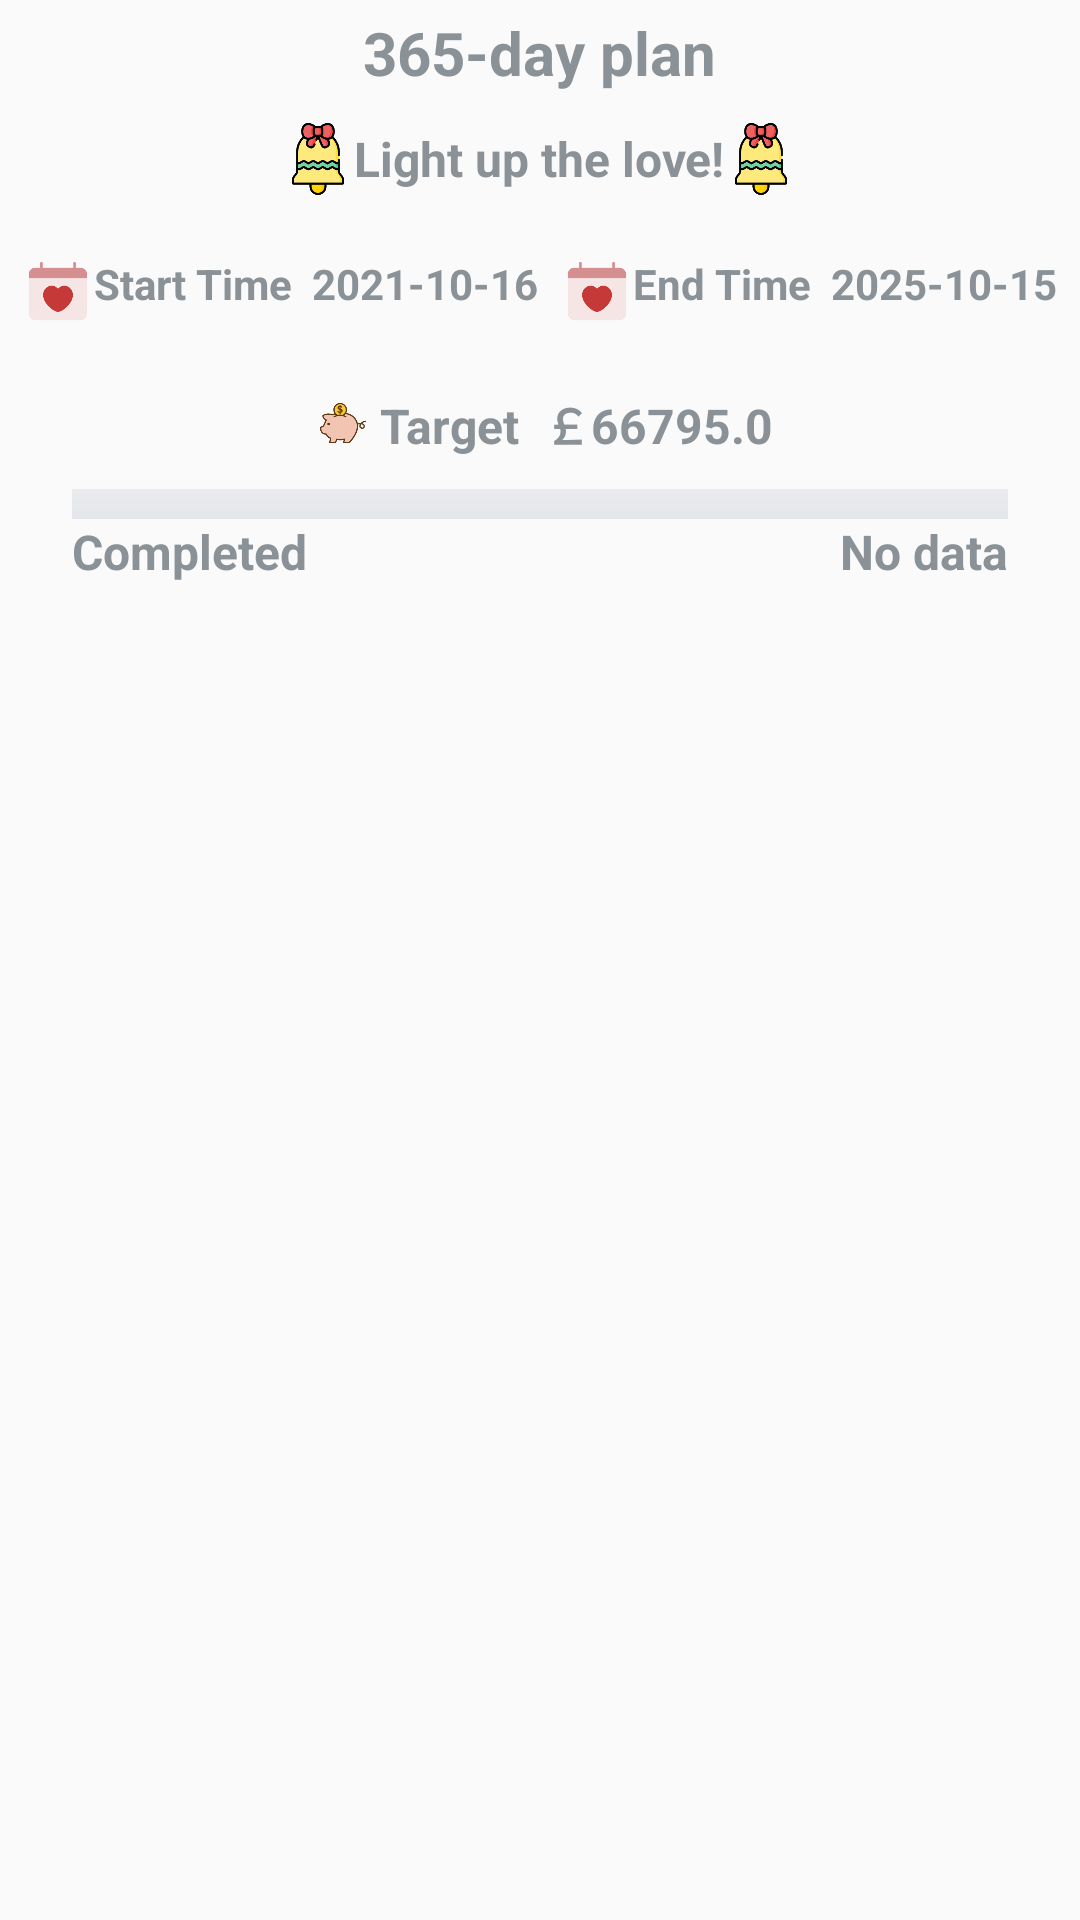

Screen size 1080px x 1920px. Icon name, then its center in pixels as point (x, y):
pig: point (343, 423)
